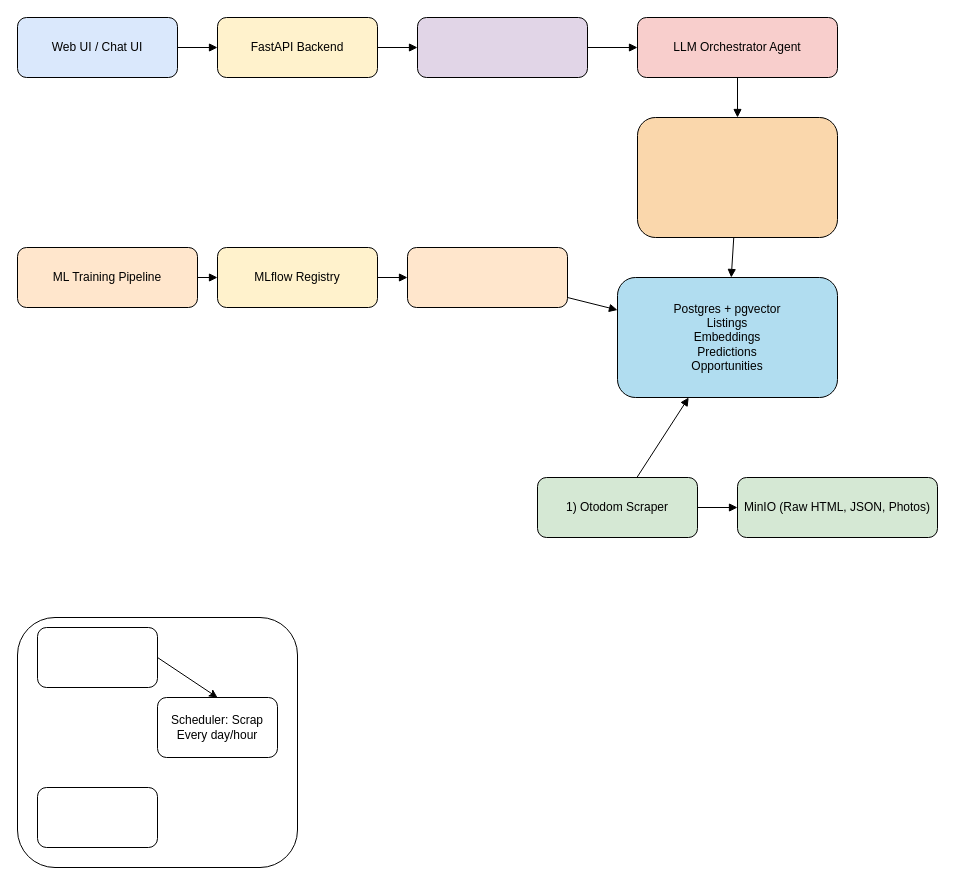
Image size: 955x885. Some labels were removed from this diagram. Here are the shapes that lost their labels. From the top down, the centre of each, then its label:
At (502,47): "MCP Tool Server".
At (737,177): "Tools - find_comps - risk_flags - explain - top_undervalued".
At (487,277): "Price Prediction Service".
At (97,657): "Input: Config file to scrap".
